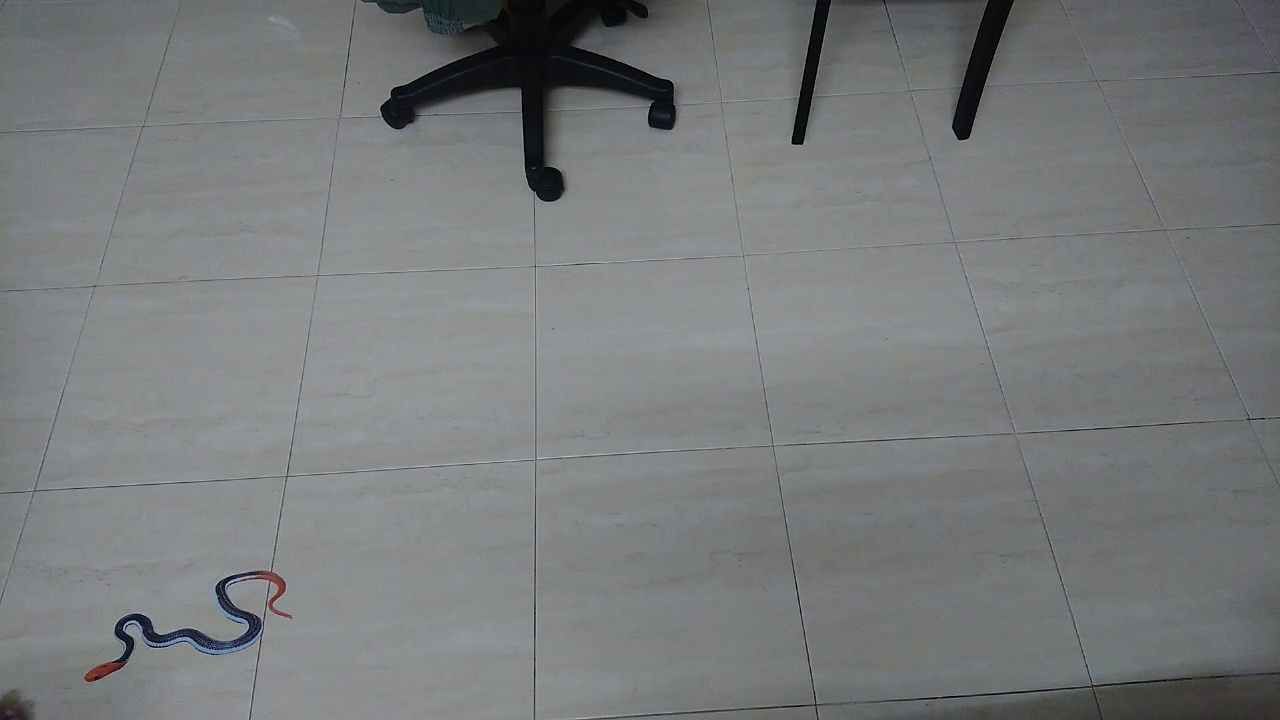snake: (72, 558, 304, 693)
